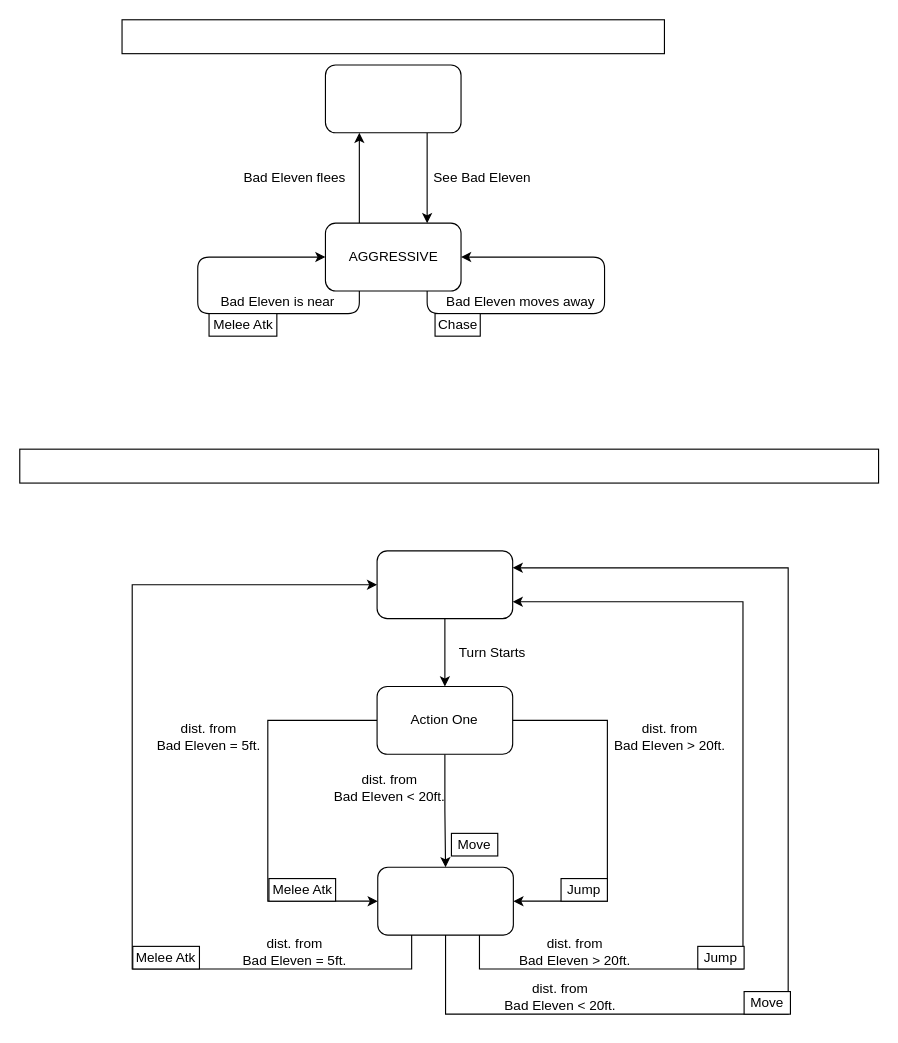
Some shapes in this 898 by 1043 pixel diagram are drawn without their labels. The box of each missing label's shape, as (x1, y1, x2, y2) in pixels:
Action Two: (377, 866, 513, 935)
Battle Mode: (19, 448, 879, 483)
Free Roaming: (121, 19, 664, 54)
IDLE: (324, 64, 461, 133)
Wait Turn: (376, 550, 513, 619)
